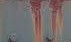Corrosion: (26, 1, 43, 42), (47, 1, 63, 42)
